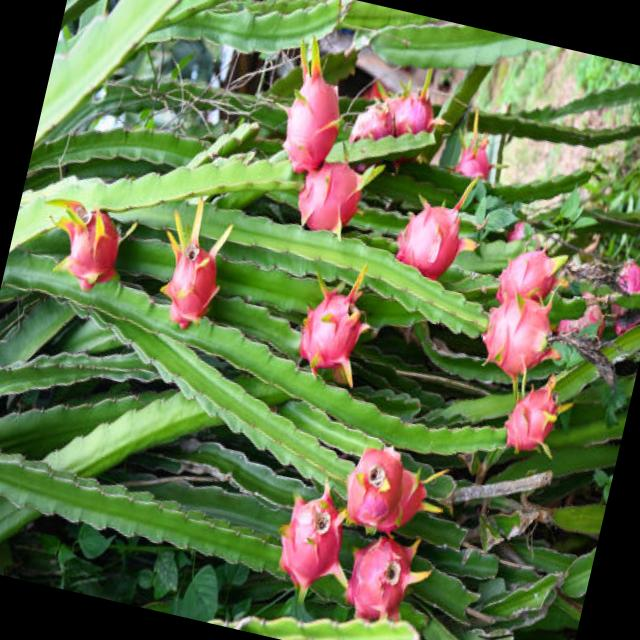Thanh Long: (288, 248, 384, 386), (51, 174, 134, 302), (150, 211, 234, 336), (339, 524, 429, 635), (287, 139, 381, 244), (494, 358, 583, 463), (271, 53, 349, 168), (474, 284, 560, 379), (268, 491, 348, 590), (392, 192, 474, 274), (377, 448, 442, 538), (336, 436, 395, 534), (384, 85, 444, 147), (494, 254, 556, 312), (348, 86, 400, 149), (453, 136, 500, 187), (610, 247, 640, 299)
